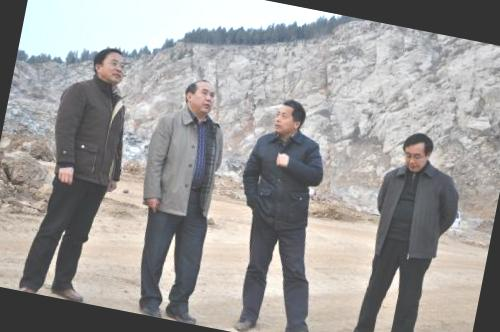no_helmet: (86, 40, 134, 89), (395, 128, 438, 176), (267, 94, 310, 141), (181, 72, 221, 120)
